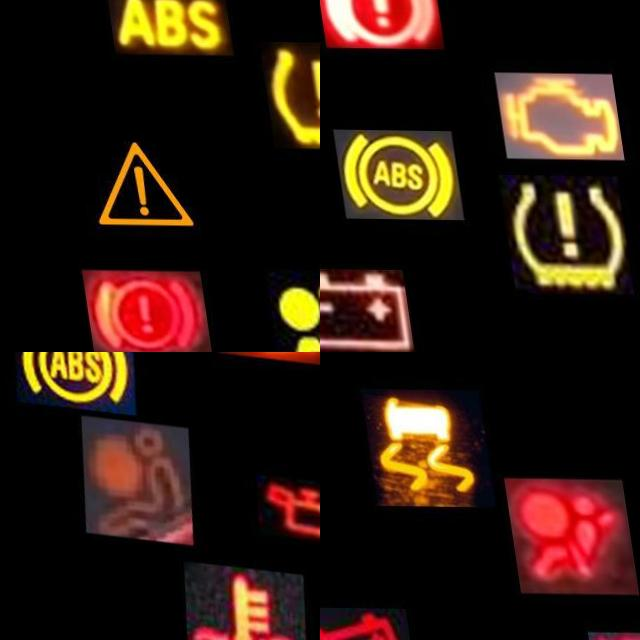Central Warning lamp: (61, 124, 193, 243)
Engine cooling system: (160, 559, 304, 640)
